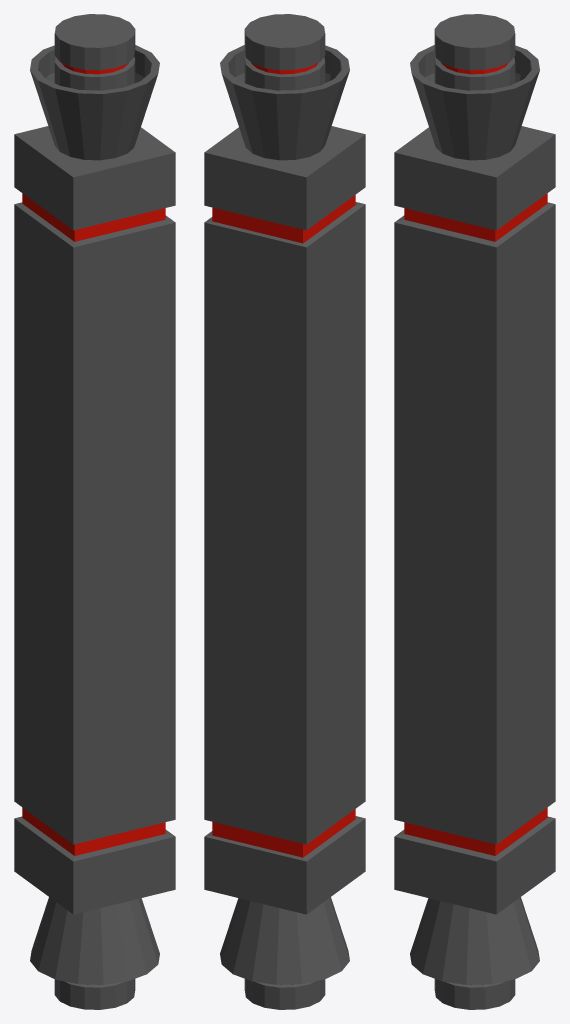
The model's file is player2.glb.
The picture shows the model from 3 angles, left to right: view 1: azimuth 30°, elevation 25°; view 2: azimuth 150°, elevation 25°; view 3: azimuth 330°, elevation 25°; orthographic projection.
Parts seen in each view (by area): view 1: Cube; view 2: Cube; view 3: Cube.
Boxes of the visible parts, x1=… form: Cube: x1=14, y1=14, x2=175, y2=1009; Cube: x1=204, y1=14, x2=365, y2=1009; Cube: x1=394, y1=14, x2=555, y2=1009.
Bounding box in the file's own units: 2.04 × 16.53 × 2.04.
